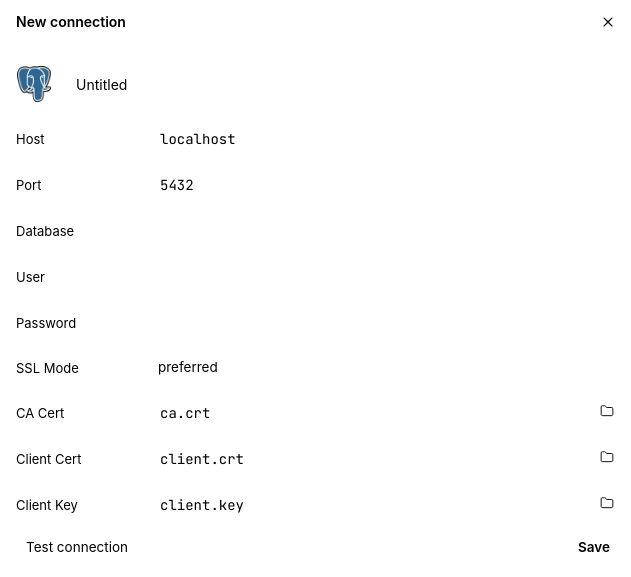
Scenario: ConnectionEditorSheet Test connection › renders the error message when testConnection fails
The width and height of the screenshot is (631, 577).
Click the button "Test connection" at (77,547), box [16,534,138,560]
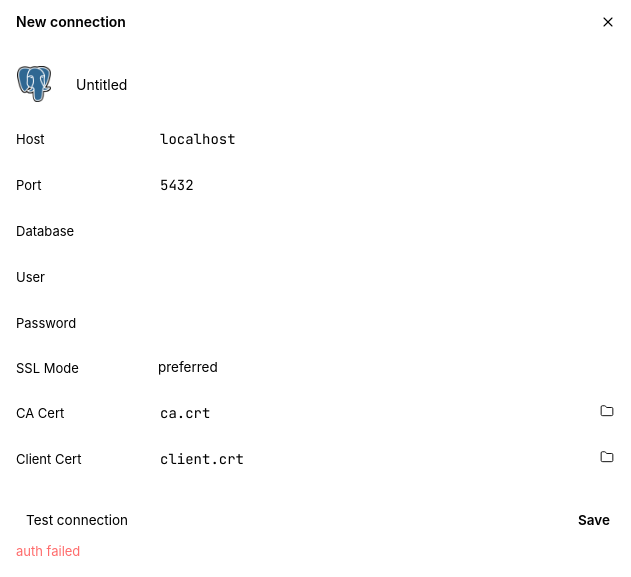
Now the text "auth failed" is shown, box [16,543,80,559]
